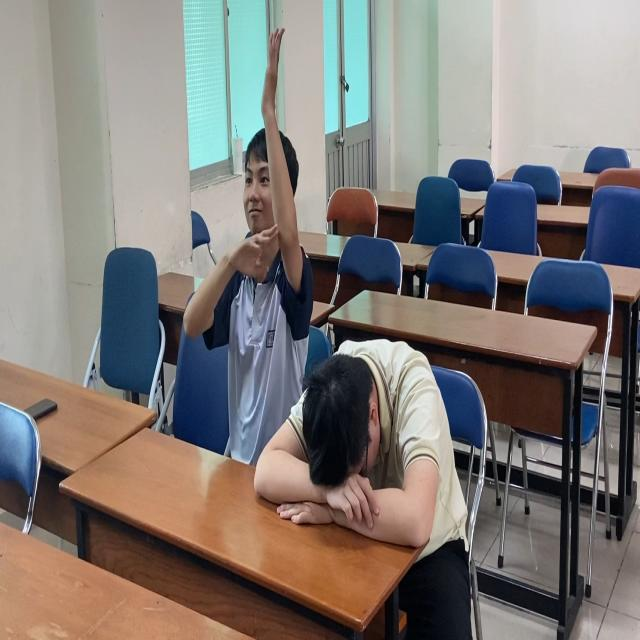raise_hand: (183, 14, 311, 484)
sleep: (255, 332, 468, 545)
